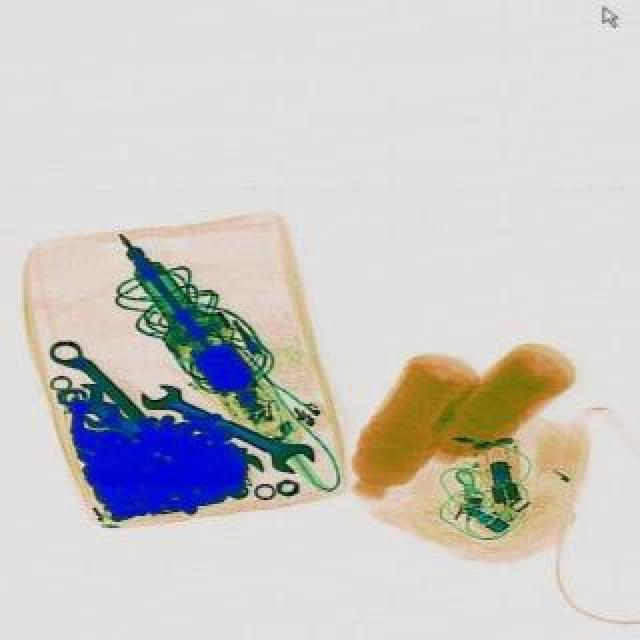scissors: (134, 374, 318, 480), (46, 332, 152, 430), (66, 378, 136, 434), (82, 396, 142, 444)
